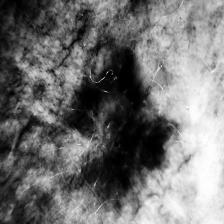Potentially Malignant Skin Tumors: (66, 27, 166, 189)
